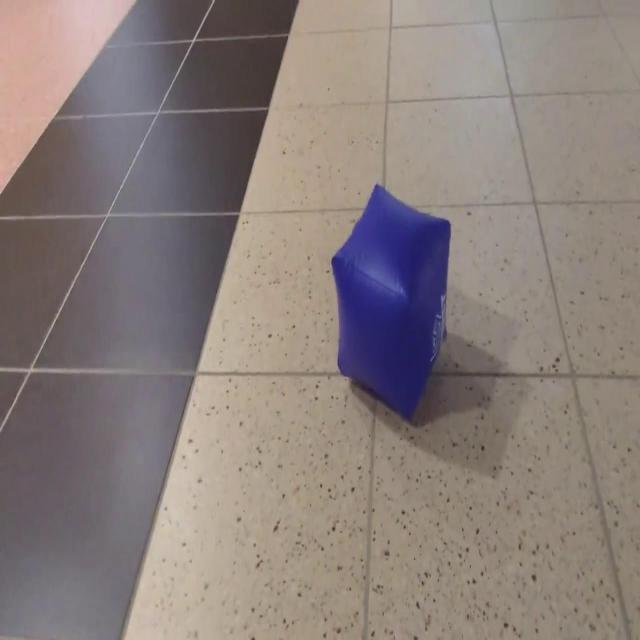frc_cube: (330, 185, 450, 415)
